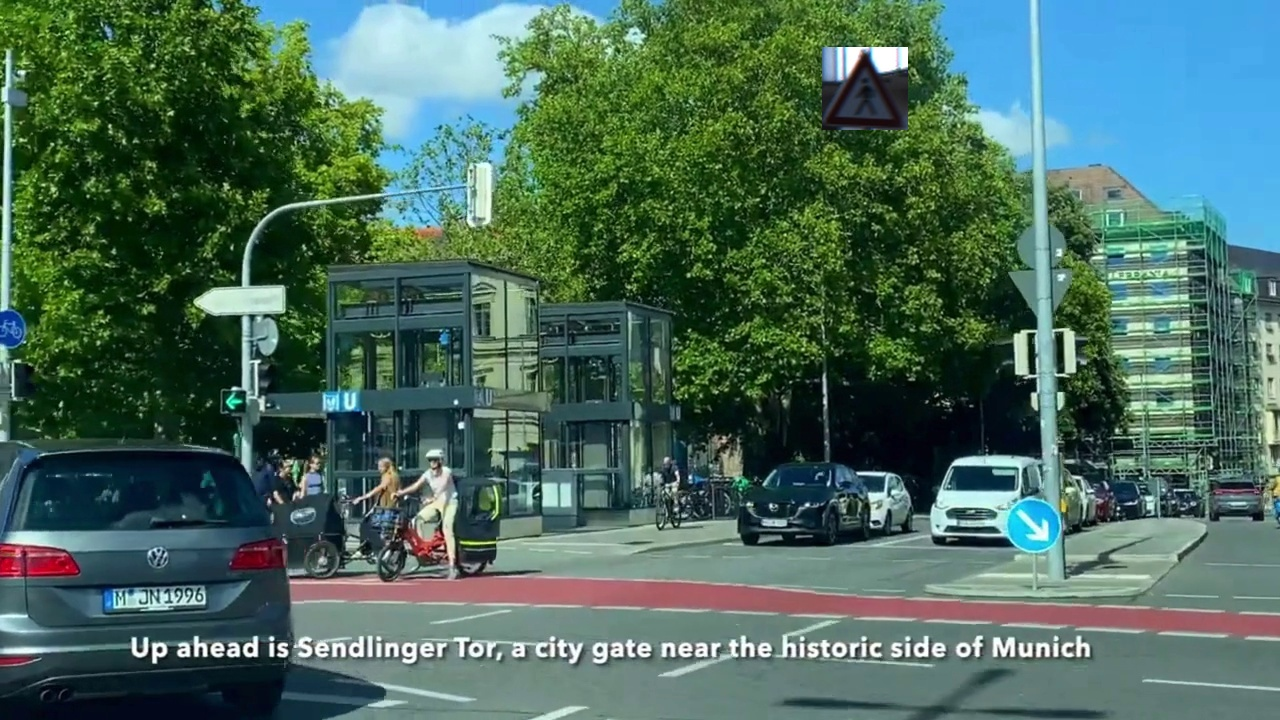Pedestrians: (822, 47, 908, 130)
